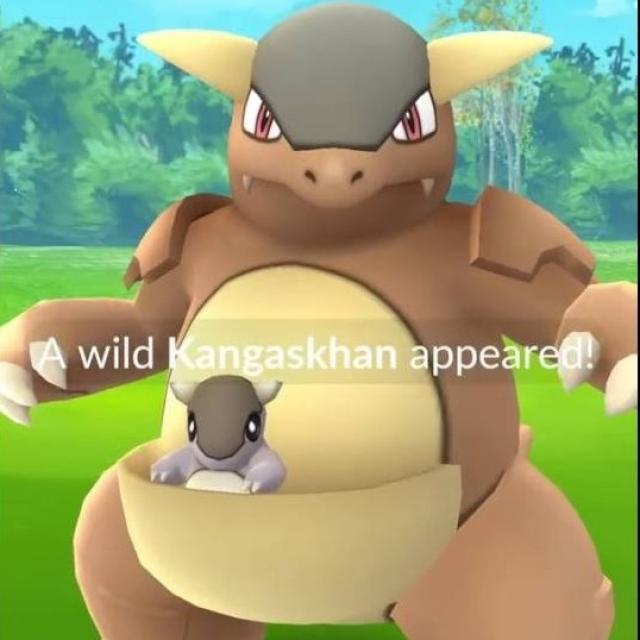Kangaskhan: (95, 23, 561, 640)
